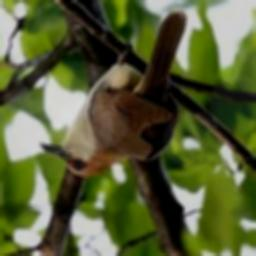Cuckoo: (41, 11, 187, 179)
